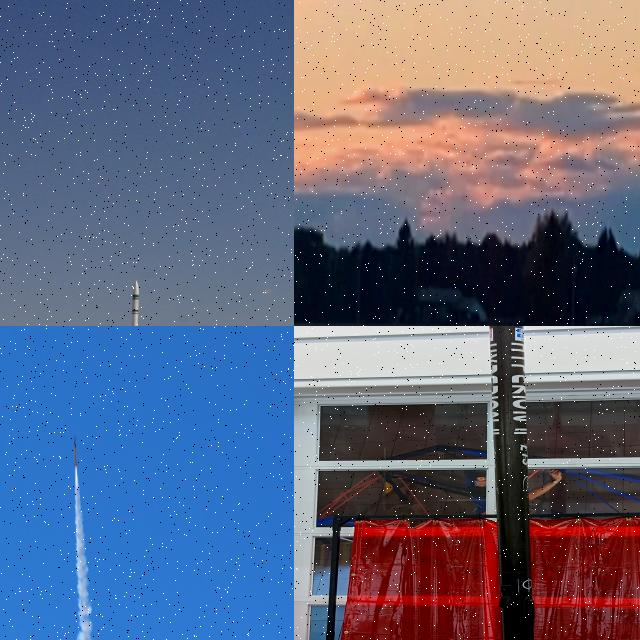Rocket: (489, 326, 535, 640), (123, 280, 140, 326), (73, 435, 78, 467)
